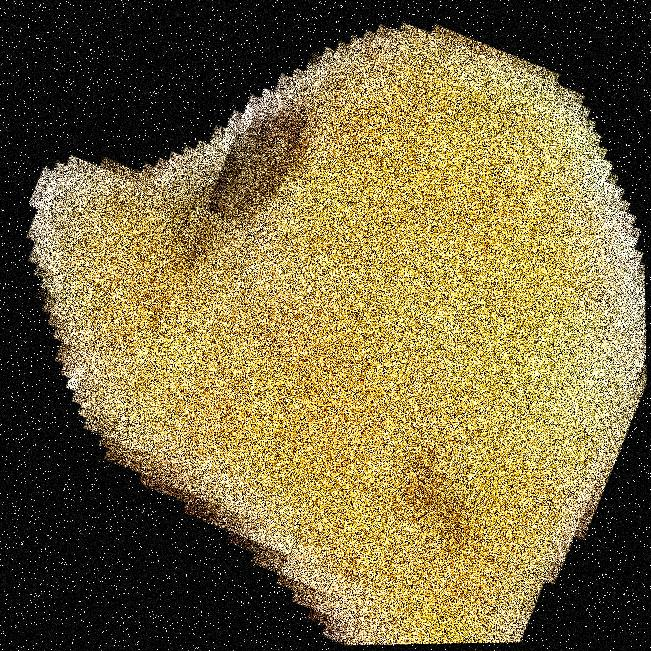Capacete: (36, 0, 650, 650)
